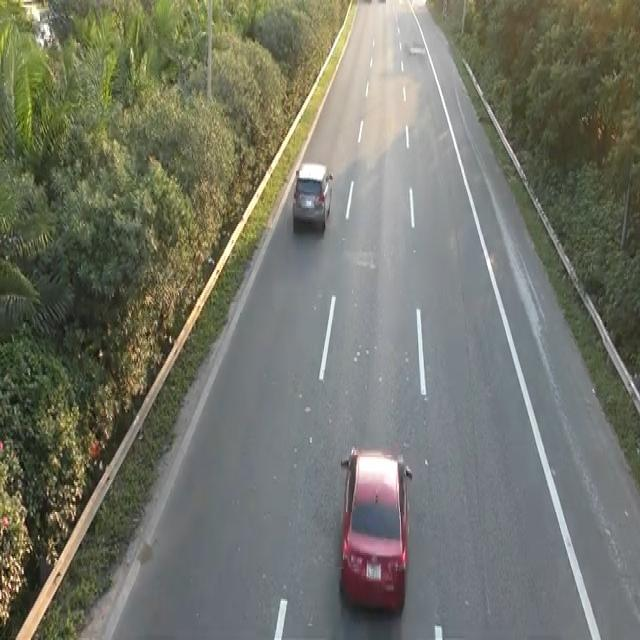bus: (336, 441, 414, 613), (291, 158, 334, 233)
